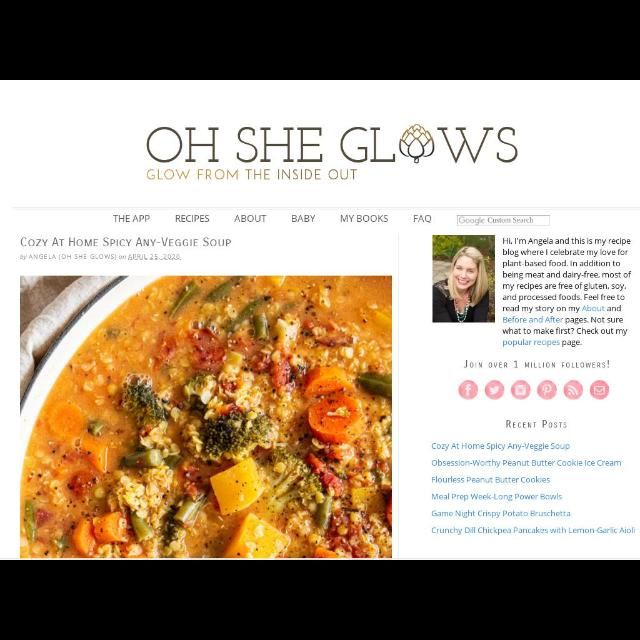icon: (484, 378, 506, 399), (459, 378, 479, 399), (590, 379, 610, 399), (537, 382, 557, 401), (512, 380, 530, 400), (564, 379, 582, 399)
image: (20, 276, 392, 558), (142, 122, 522, 188), (432, 235, 496, 322)
input: (458, 214, 550, 223)
text: (427, 441, 639, 537), (500, 234, 636, 346), (20, 233, 232, 261), (460, 354, 616, 374), (338, 212, 392, 226), (501, 420, 572, 430), (112, 211, 152, 225), (174, 211, 212, 225), (460, 216, 536, 222), (233, 212, 269, 224), (290, 212, 320, 224), (411, 212, 434, 226)
toolbar: (1, 80, 639, 206)
